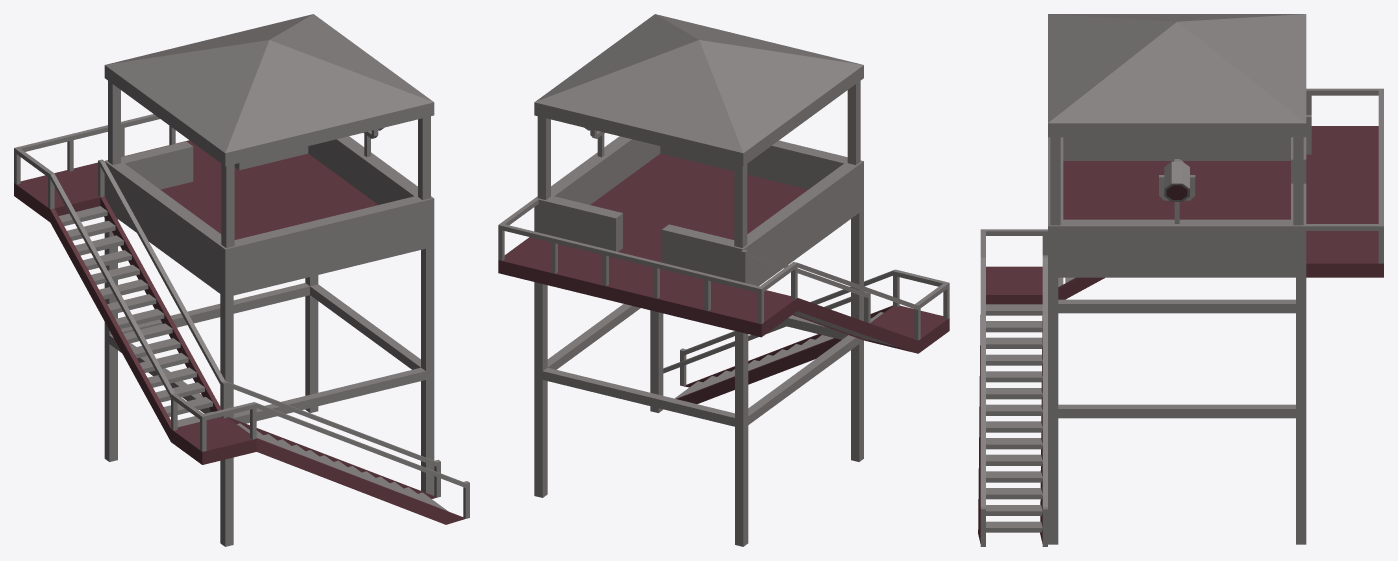
The model's file is military-tower.fbx.
3 renders of one model, left to right at view 1: azimuth 30°, elevation 25°; view 2: azimuth 150°, elevation 25°; view 3: azimuth 270°, elevation 25°, orthographic. The views are drawn at different scales.
Visible parts, largest first — view 1: military-tower; view 2: military-tower; view 3: military-tower.
Boxes of the visible parts, bbox=[...] form: military-tower: bbox=[14, 14, 469, 546]; military-tower: bbox=[498, 14, 949, 546]; military-tower: bbox=[978, 14, 1383, 546].
Size of the model in its own units: 6.56 by 10 by 7.85.
